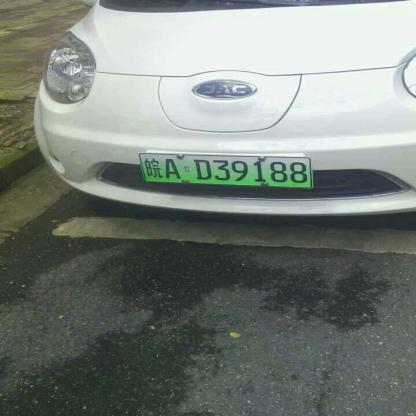lp: (140, 153, 310, 186)
